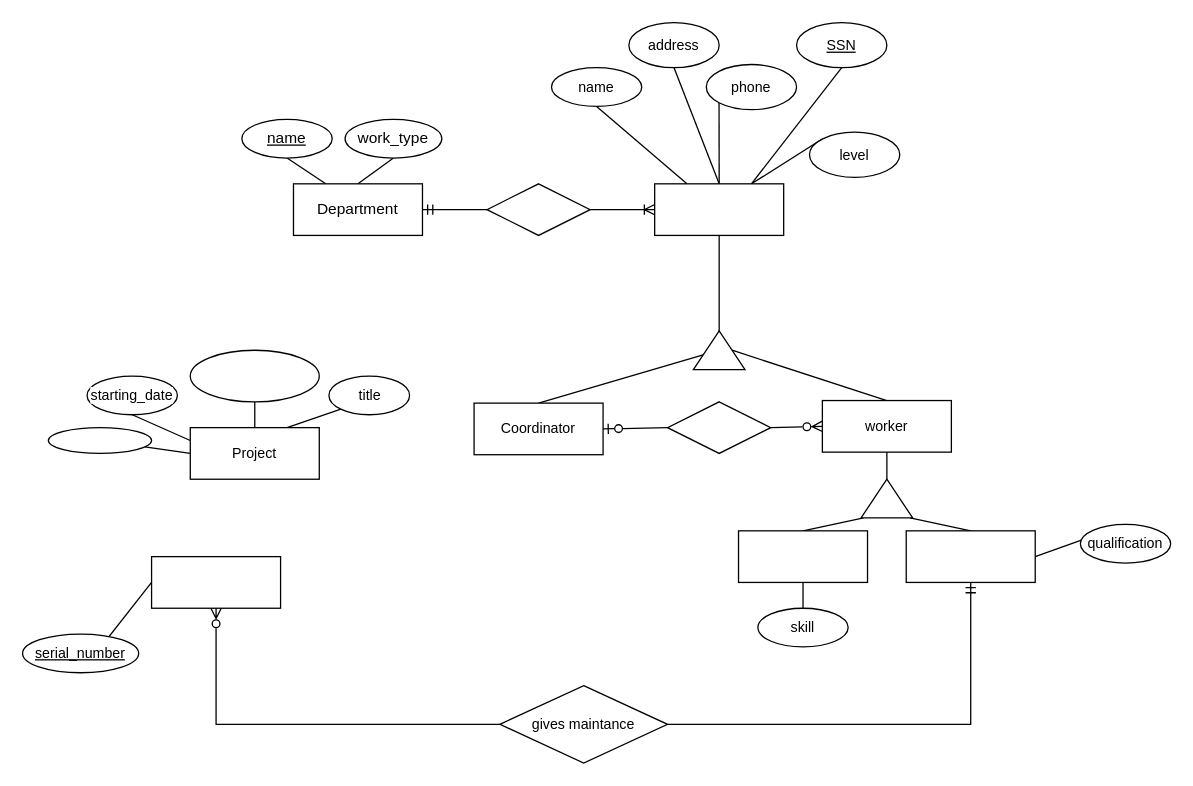
Some shapes in this 1193 by 786 pixel diagram are drawn without their labels. Each missing label, with the centre of its shape:
"Assistant" belongs at [970,556].
"coordinates" belongs at [718,427].
"Employee" belongs at [718,209].
"expected_end_date" belongs at [254,375].
"has" belongs at [538,209].
"hour_salary" belongs at [99,439].
"Machine" belongs at [215,581].
"Technician" belongs at [802,556].
